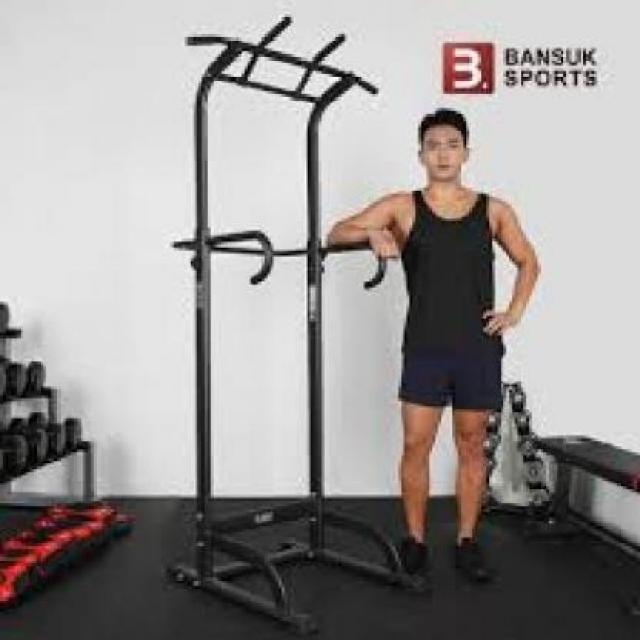chinning dipping: (175, 17, 388, 632)
